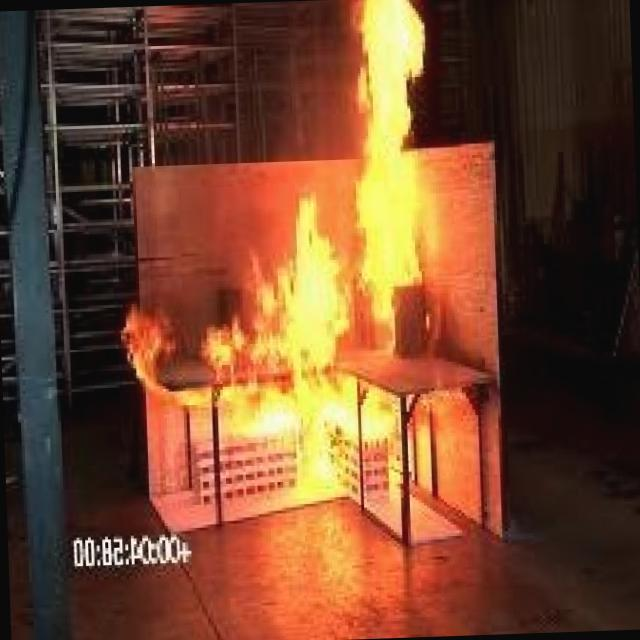fire: (166, 0, 491, 566)
